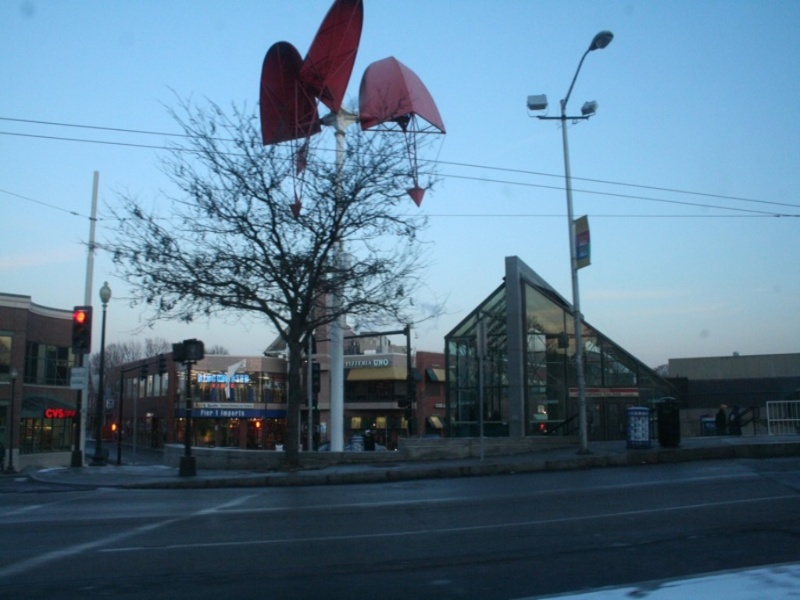red_light: (66, 307, 91, 327)
